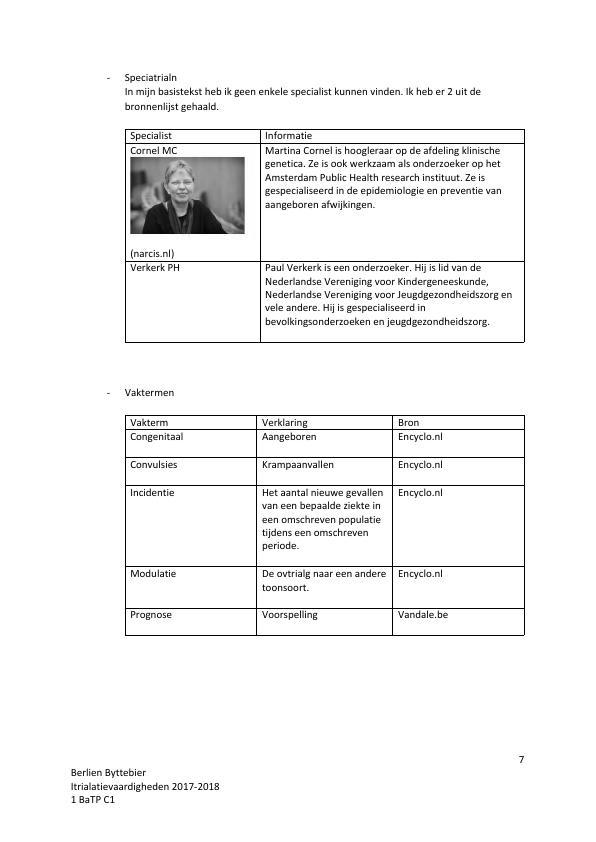table: (120, 411, 531, 645), (121, 124, 528, 347)
text: (119, 67, 485, 117), (63, 766, 224, 807), (119, 385, 181, 399)
